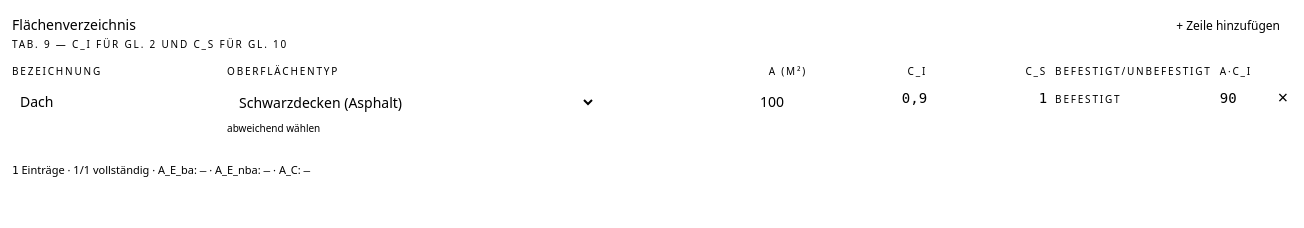
RegisterEditor — lookup_key / lookup_value / derived (A138 fallback config as fixture) › "abweichend wählen" makes the applies_to cells editable, sets the flag, keeps the table pair visible; "Tab. 9 übernehmen" reverts
Click the button "abweichend wählen": (274,128) [227,121,320,136]
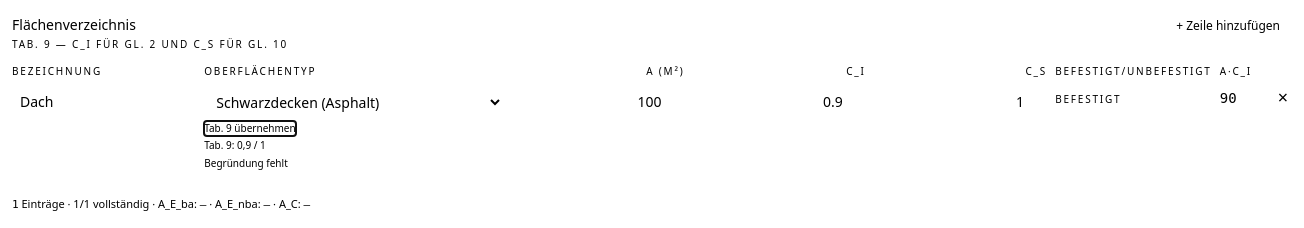
Replace the text in the number field named "C_i (abweichend)" with "0.75": (779,102) [692,88,866,116]
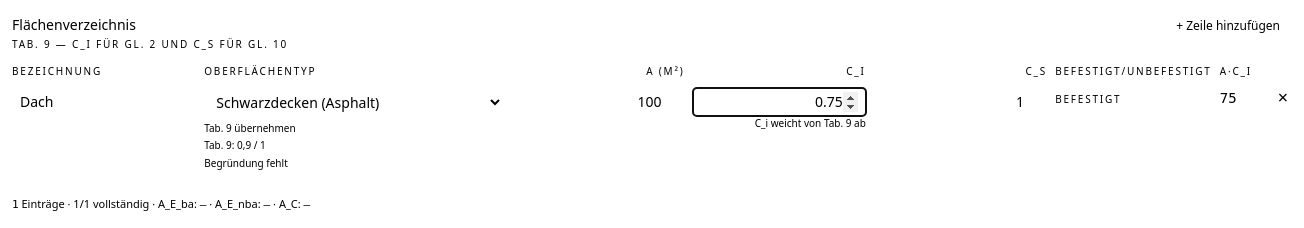
Check: the text with test id "lookup-original" reads "Tab. 9: 0,9 / 1", box [204,138,266,152]
Check: the text with test id "mismatch-c_i" reads "C_i weicht von Tab. 9 ab", box [755,116,866,130]
Click the button "Tab. 9 übernehmen": (250,128) [204,121,296,136]
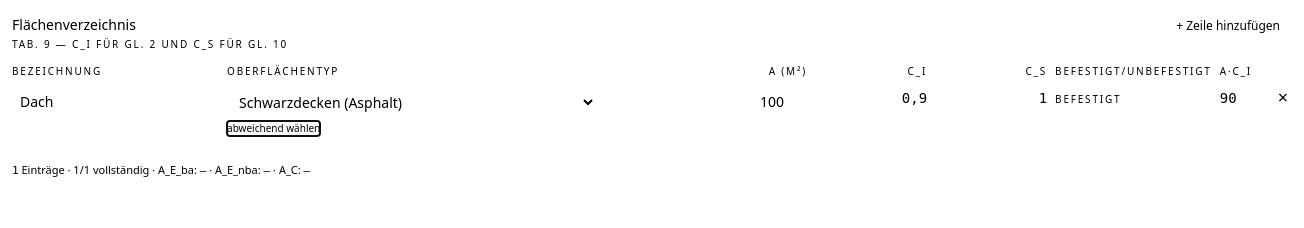
Check: the text with test id "lookup-value-c_i" reads "0,9", box [902,90,927,106]
Check: the text with test id "lookup-original" is gone
